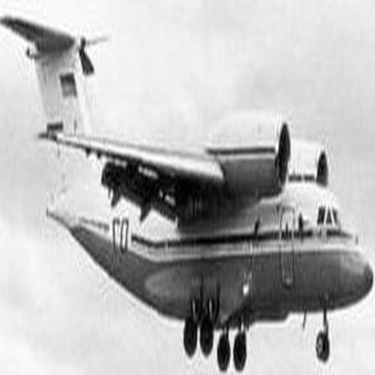airplane: (2, 2, 374, 371)
